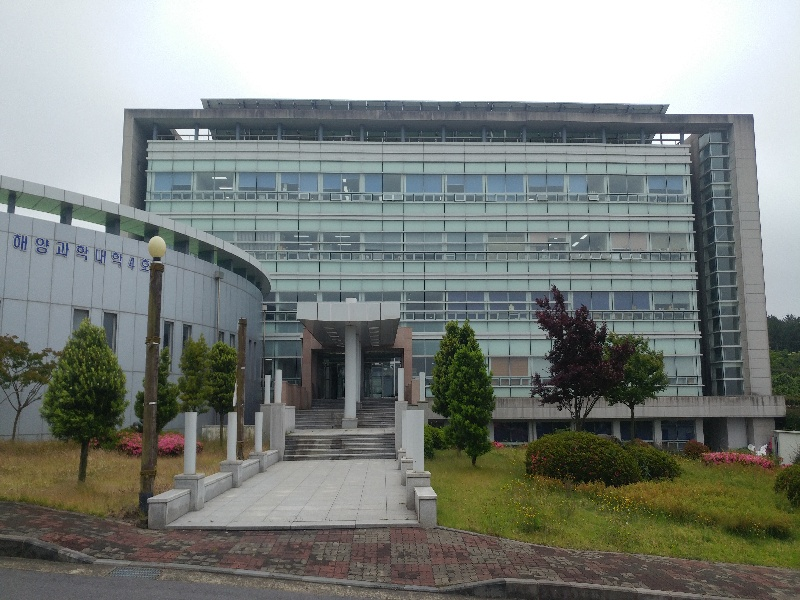College of Marine Science: (15, 69, 780, 435), (112, 71, 772, 449), (12, 222, 125, 276)
